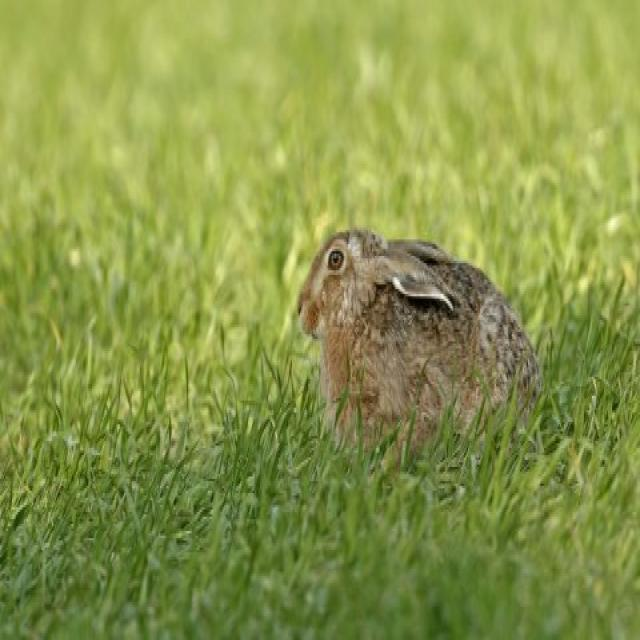Hare: (290, 210, 552, 447)
